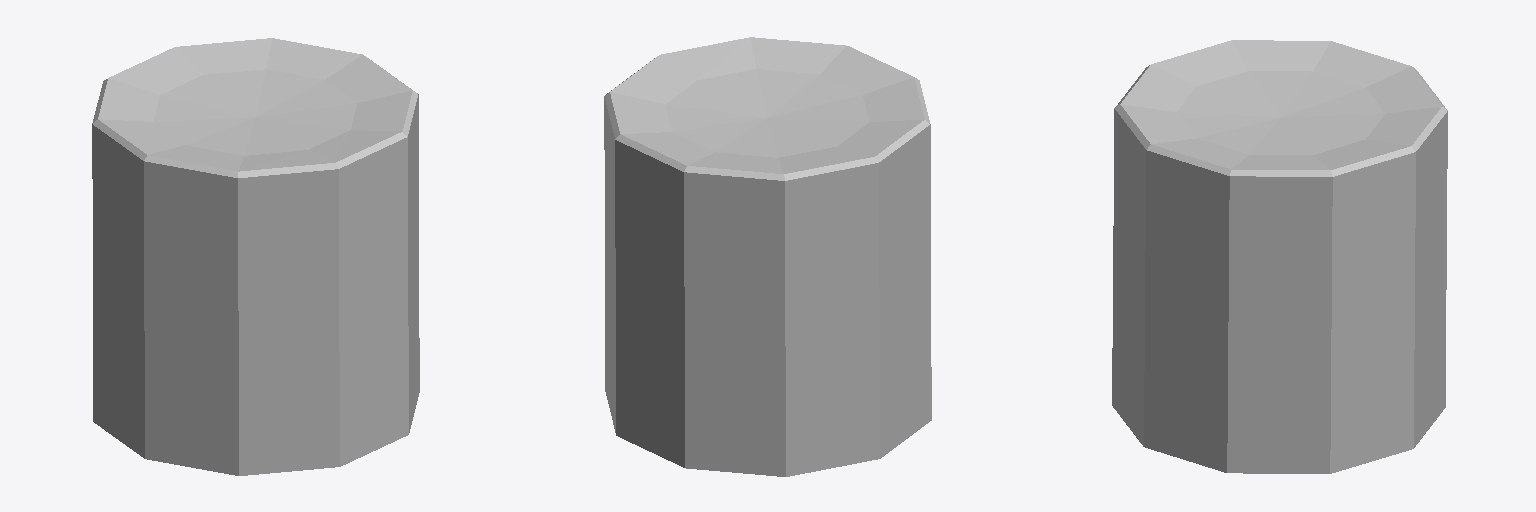
The model's file is crystal_controller_right_button5.obj.
The picture shows the model from 3 angles: view 1: azimuth 30°, elevation 25°; view 2: azimuth 150°, elevation 25°; view 3: azimuth 270°, elevation 25°; orthographic projection.
Parts seen in each view (by area): view 1: crystal_controller_right_button5; view 2: crystal_controller_right_button5; view 3: crystal_controller_right_button5.
Boxes of the visible parts, x1=… form: crystal_controller_right_button5: x1=92, y1=38, x2=419, y2=475; crystal_controller_right_button5: x1=604, y1=37, x2=931, y2=476; crystal_controller_right_button5: x1=1112, y1=40, x2=1447, y2=473.
Bounding box in the file's own units: 0.0094 × 0.0099 × 0.0099.